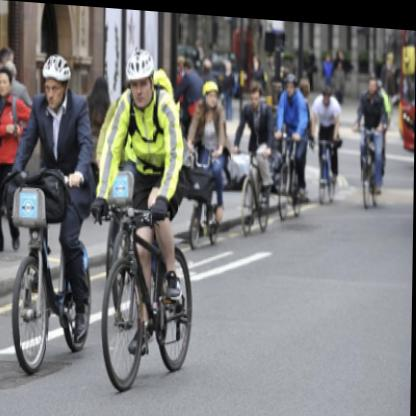With Helmet: (123, 39, 158, 108), (37, 48, 74, 112)
